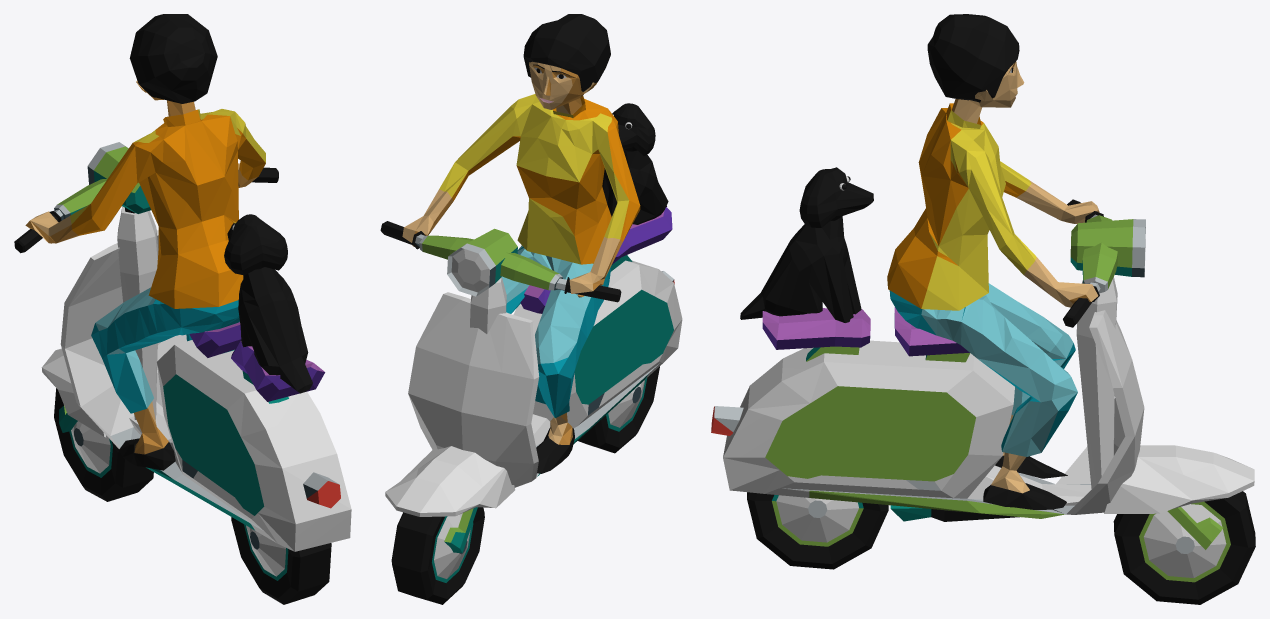
3 views of the same model, side by side, from view 1: azimuth 30°, elevation 25°; view 2: azimuth 150°, elevation 25°; view 3: azimuth 270°, elevation 25° (orthographic). The views are drawn at different scales.
Parts seen in each view (by area): view 1: node_MeshObject-940363776-PolyPaper21; view 2: node_MeshObject-940363776-PolyPaper21; view 3: node_MeshObject-940363776-PolyPaper21.
Part boxes in pixels (<box>): node_MeshObject-940363776-PolyPaper21: <box>14,14,351,604</box>; node_MeshObject-940363776-PolyPaper21: <box>380,14,682,604</box>; node_MeshObject-940363776-PolyPaper21: <box>711,14,1255,604</box>.
Bounding box in the file's own units: 1.1 × 2.26 × 1.99.
